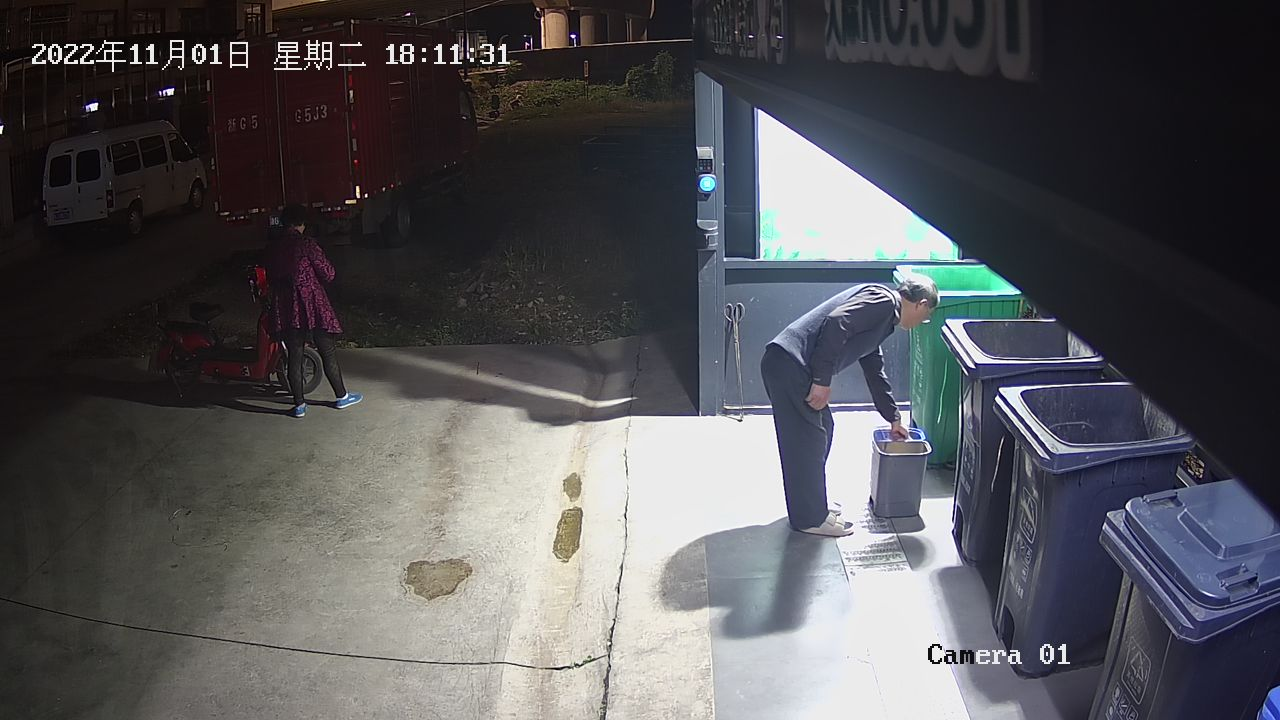person: (757, 268, 941, 537), (262, 202, 365, 419)
youtong: (868, 425, 933, 521)
